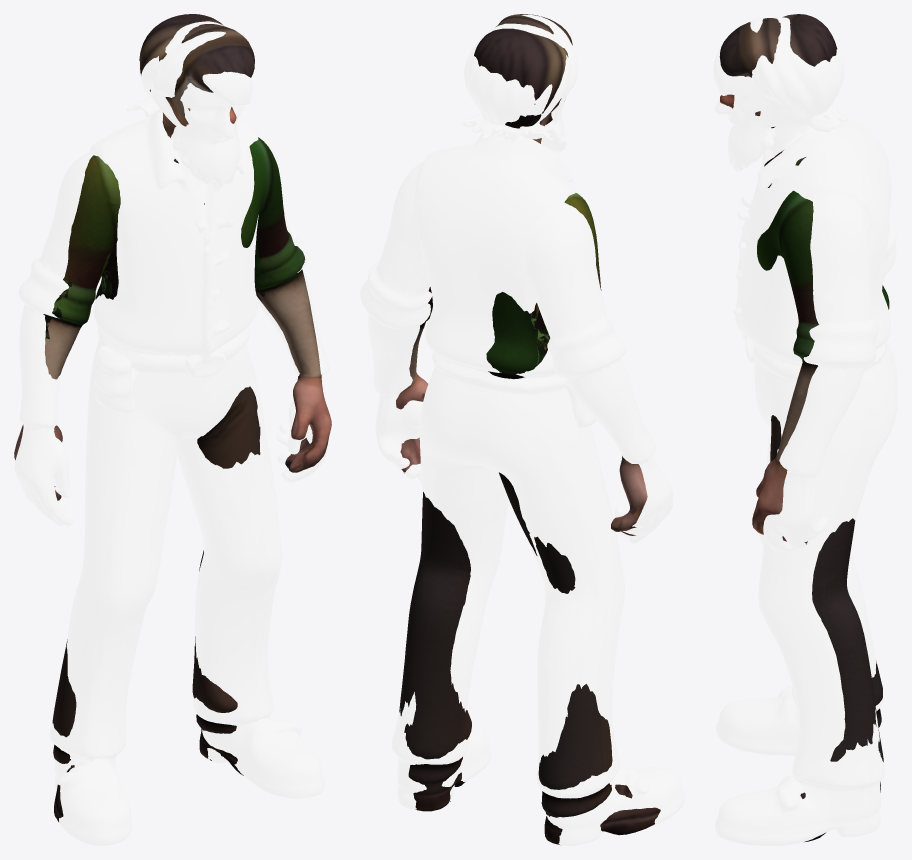
File: merchant_wrapped.glb
The picture shows the model from 3 angles, left to right: view 1: azimuth 30°, elevation 25°; view 2: azimuth 150°, elevation 25°; view 3: azimuth 270°, elevation 25°; orthographic projection.
Visible parts, largest first — view 1: Outfit, Body; view 2: Outfit, Body; view 3: Outfit, Body.
Part boxes in pixels (x1,y1,x2,y2): Outfit: [14, 21, 329, 845]; Body: [14, 14, 331, 821]; Outfit: [360, 14, 684, 845]; Body: [396, 14, 660, 844]; Outfit: [713, 17, 897, 845]; Body: [719, 14, 889, 841].
Bounding box in the file's own units: 0.7485 × 1.85 × 0.4002.
2 materials, 1 textured.
